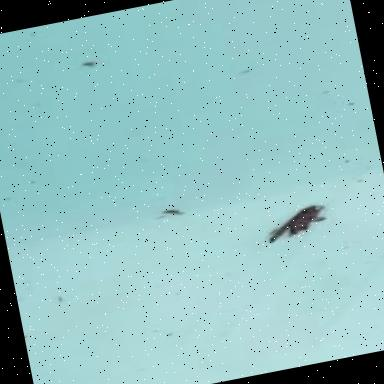pbw: (262, 204, 334, 246)
